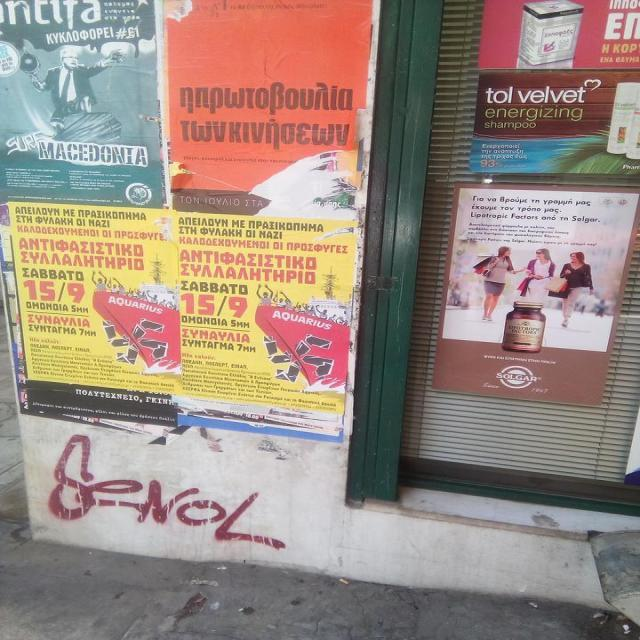nonspitting: (46, 430, 284, 550)
